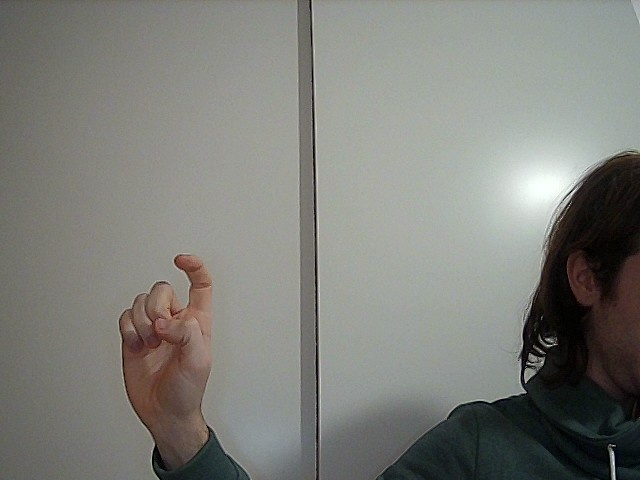x: (116, 252, 218, 413)
